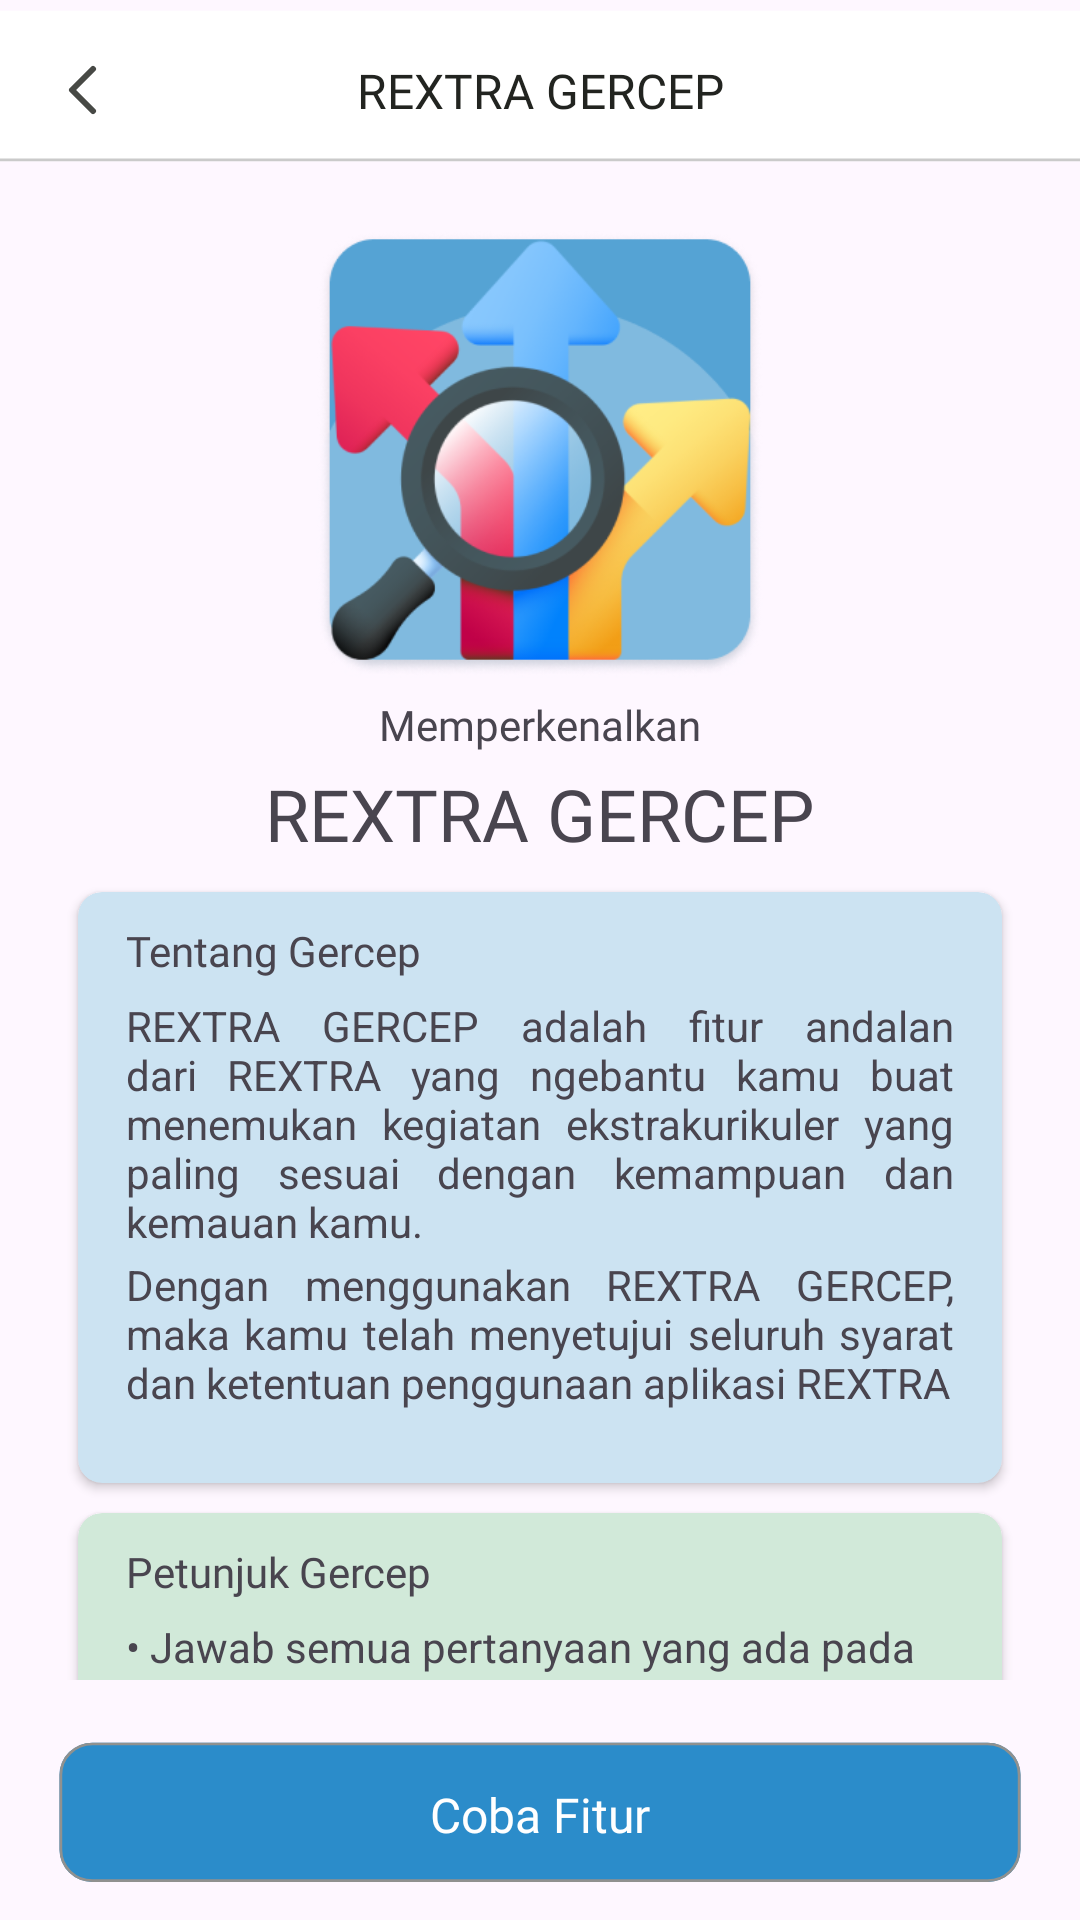

Screen size 1080*1920. Icon name, then its center in pixels as (x=x, y=y):
left arrow: (x=82, y=90)
